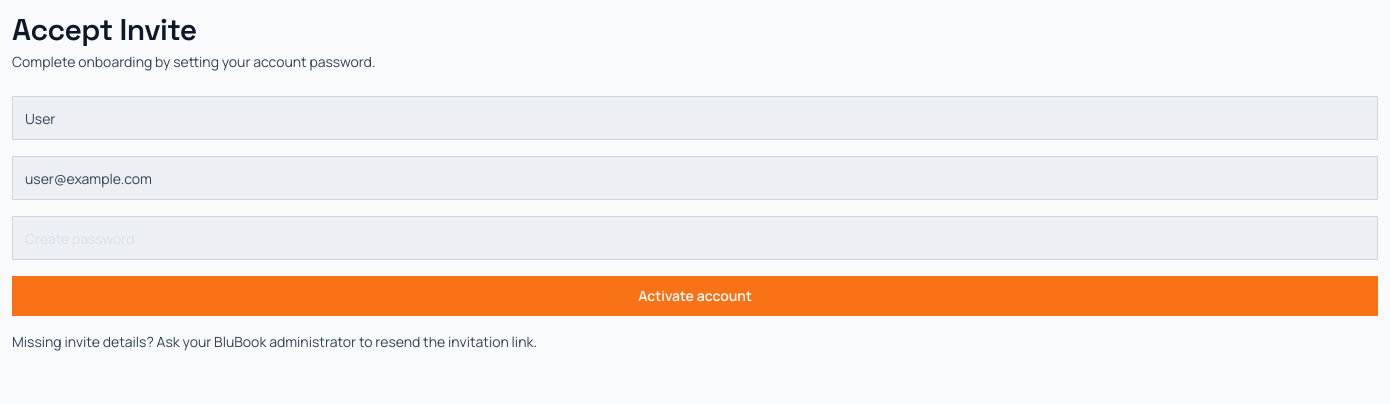
InvitePage › shows invite verification failure when activation endpoint returns error
This screenshot has width=1390, height=404.
Step 1. Type "Password123" into the password field with placeholder "Create password" → [695, 238], box [12,216,1378,260]
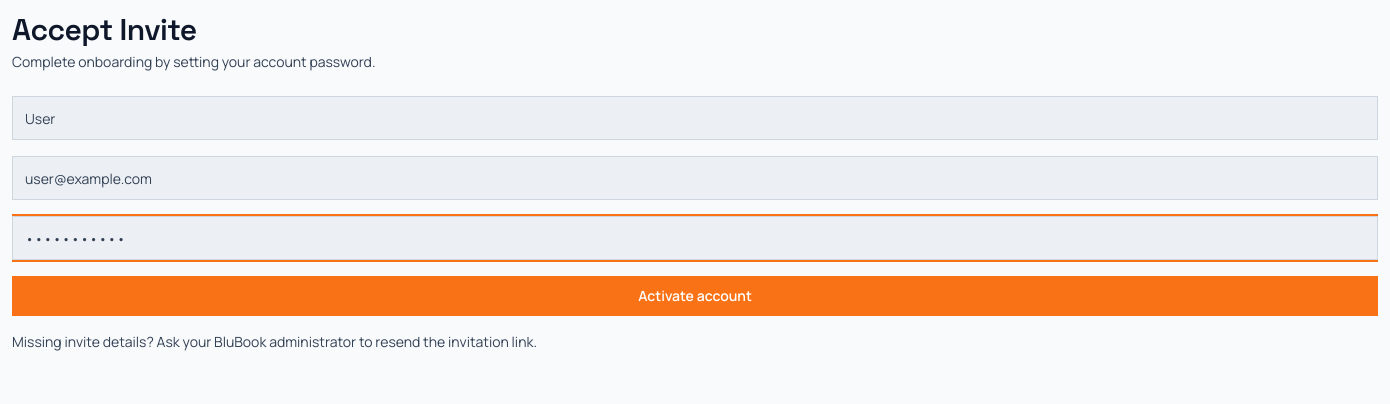
Step 2. Click the button "Activate account" → [695, 296], box [12,276,1378,316]
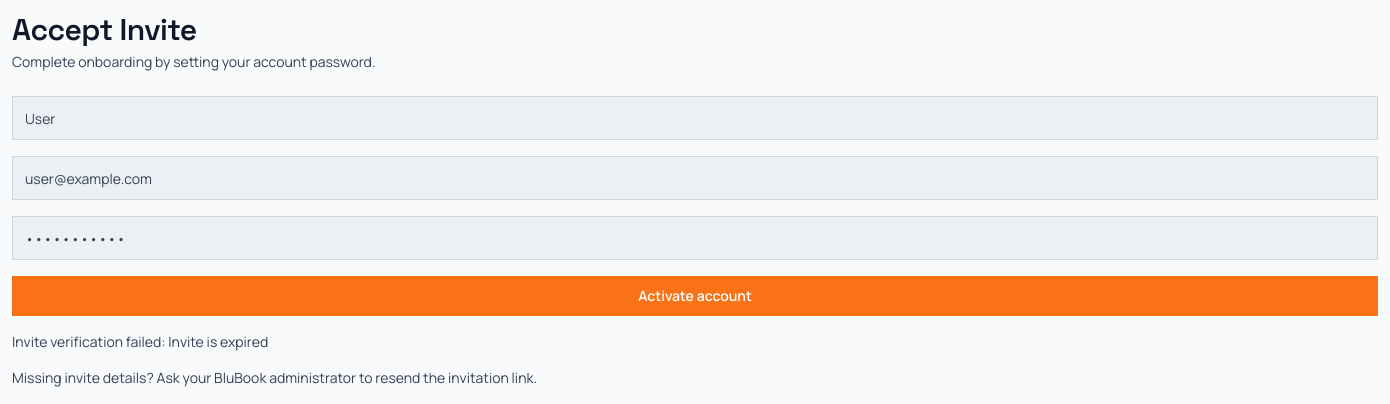
Expected: the text "Invite verification failed: Invite is expired" is shown, [12,332,268,351]
